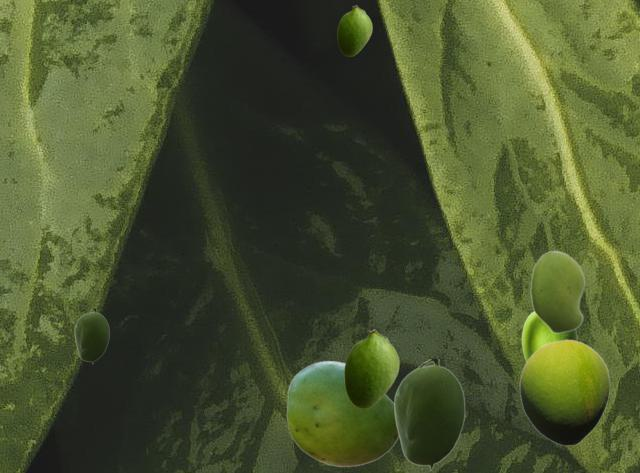green_mango: (286, 360, 398, 466), (519, 339, 609, 445), (393, 359, 464, 470), (530, 250, 584, 333), (344, 329, 398, 407), (521, 311, 576, 361), (74, 309, 108, 363), (337, 5, 371, 55)
